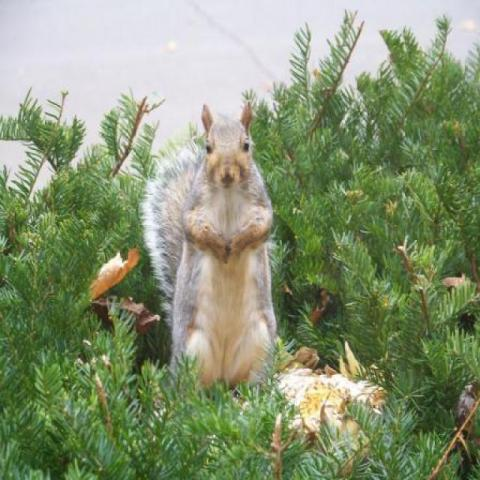small_animal: (146, 100, 280, 395)
